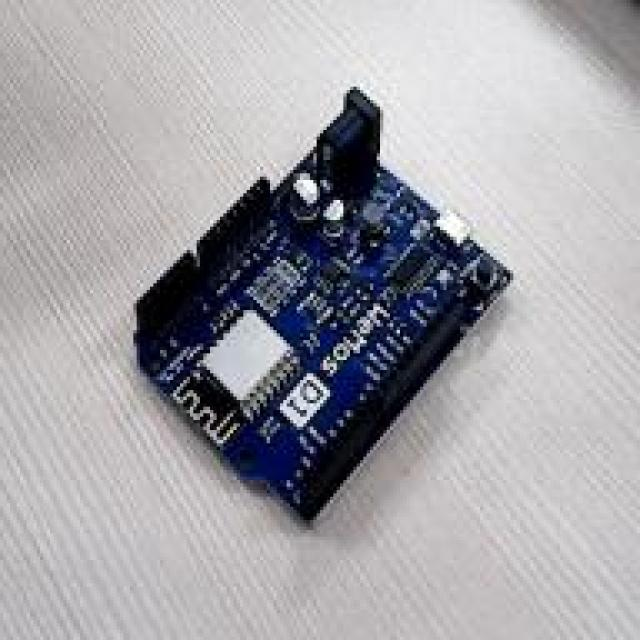Wemos: (138, 88, 511, 518)
